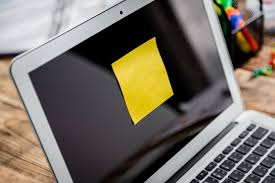Note: (113, 37, 172, 123)
